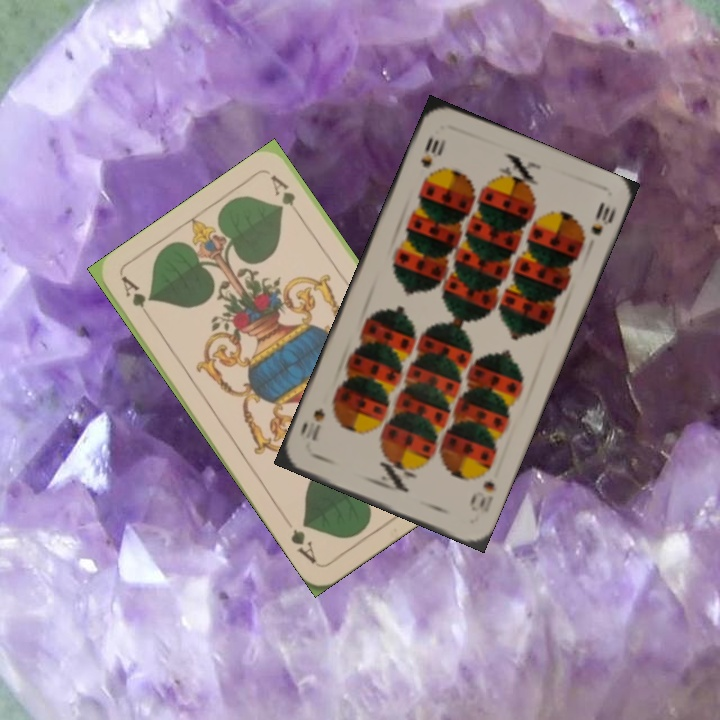GA: (117, 272, 157, 326)
S10: (465, 476, 500, 516), (416, 133, 448, 170)
